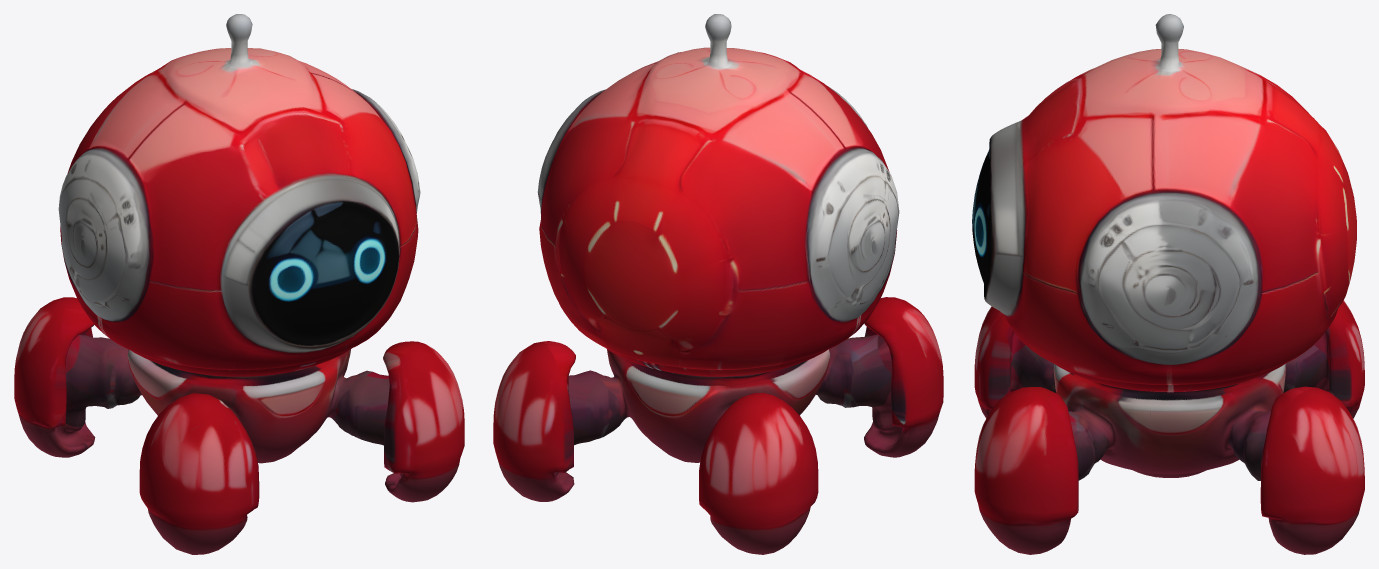
Rendered from round_futuristic_robot_with_wheels..glb.
3 views of the same model, side by side, from view 1: azimuth 30°, elevation 25°; view 2: azimuth 150°, elevation 25°; view 3: azimuth 270°, elevation 25° (orthographic). The views are drawn at different scales.
Visible parts, largest first — view 1: model; view 2: model; view 3: model.
Part boxes in pixels (x1=…): model: x1=14, y1=14, x2=464, y2=554; model: x1=493, y1=14, x2=943, y2=554; model: x1=972, y1=14, x2=1364, y2=554.
Bounding box in the file's own units: 1.35 × 1.9 × 1.4.
1 material, 1 textured.
